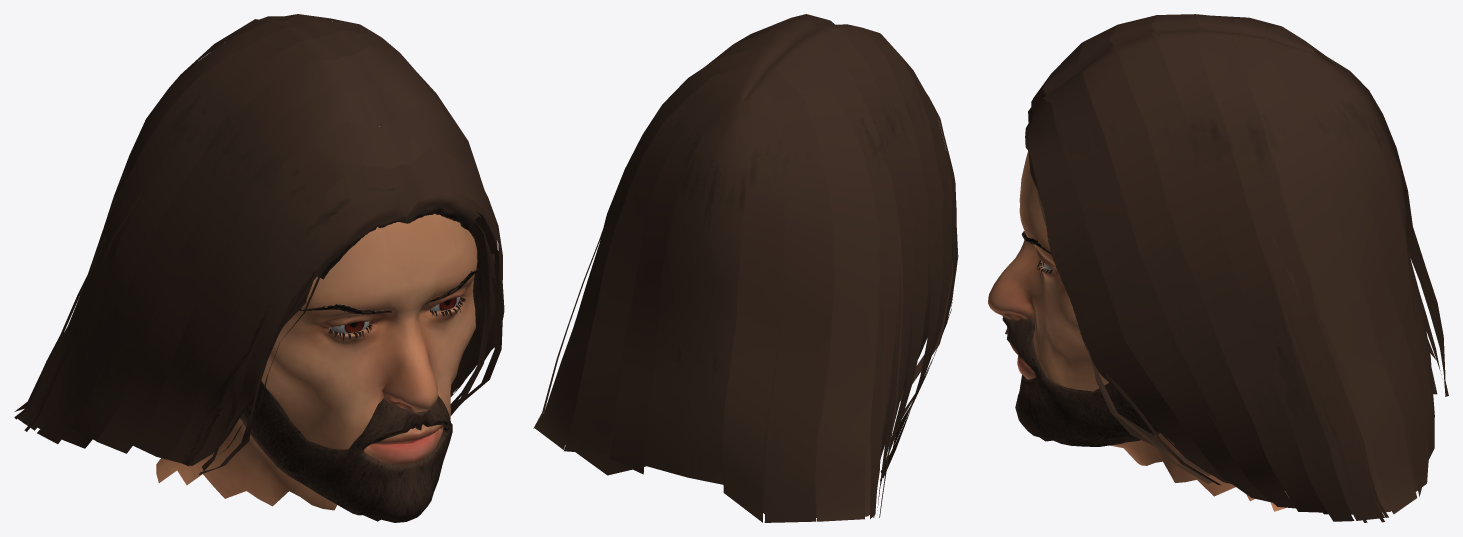
Rendered from jesus_head.glb.
3 renders of one model, left to right at view 1: azimuth 30°, elevation 25°; view 2: azimuth 150°, elevation 25°; view 3: azimuth 270°, elevation 25°, orthographic. The views are drawn at different scales.
Parts seen in each view (by area): view 1: hair_long01, face, beard, brows; view 2: hair_long01; view 3: hair_long01, face, beard.
Boxes of the visible parts, x1,y1,x2,y2 form: hair_long01: [14, 14, 504, 474]; face: [156, 126, 477, 510]; beard: [240, 381, 452, 522]; brows: [299, 267, 478, 314]; hair_long01: [533, 14, 958, 522]; hair_long01: [1025, 14, 1448, 522]; face: [988, 151, 1288, 511]; beard: [1002, 316, 1160, 446].
Size of the model in its own units: 0.2508 by 0.2724 by 0.2638.
Materials: 6 (6 with a texture image).
